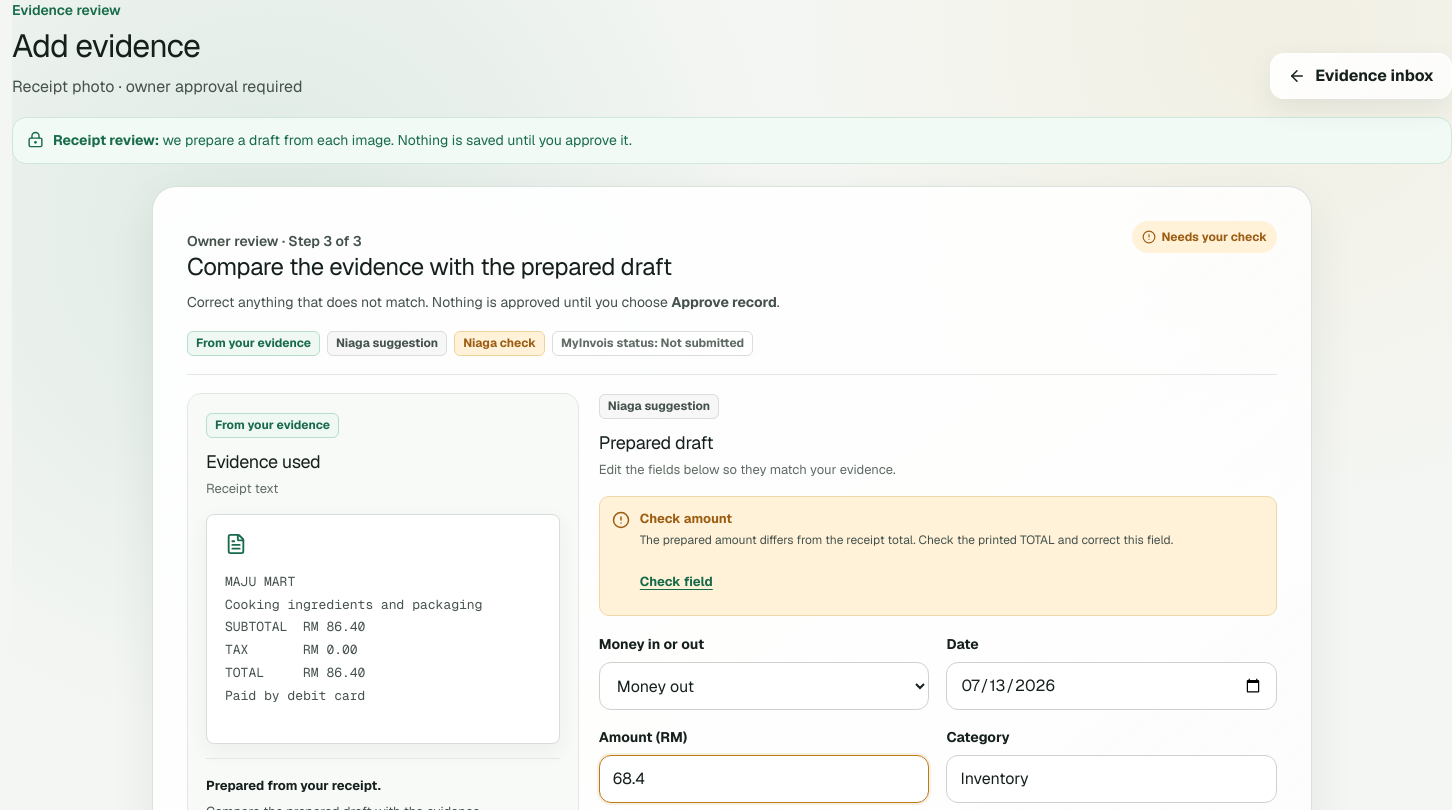
Test: TransactionCaptureFlow › runs the deterministic evidence correction through approval and audit history
The width and height of the screenshot is (1452, 810).
Replace the text in the number field labelled "Amount (RM)" with "86.40" at point(764, 779), box [599,755,929,803]
(page scrolled)
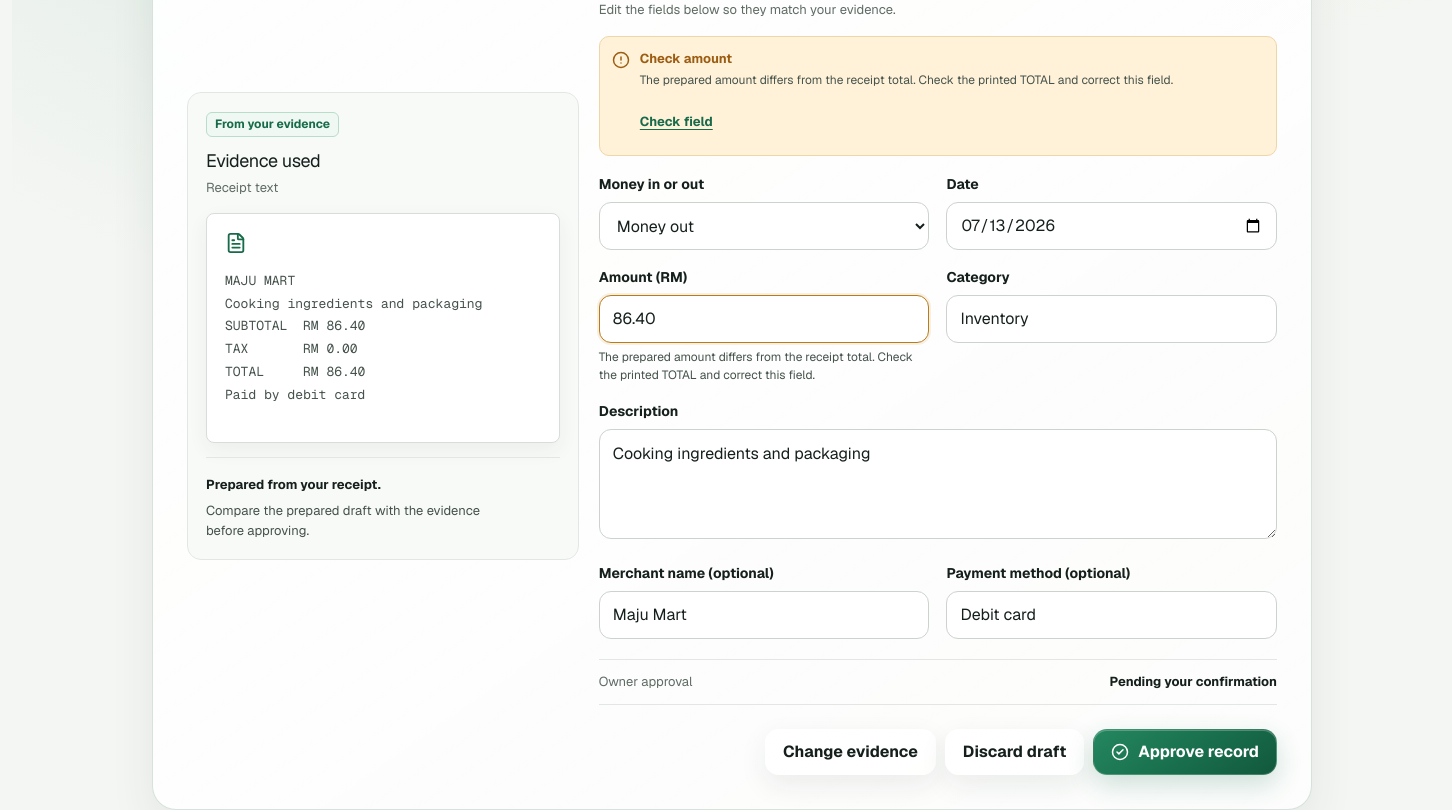
Expected: the button "Approve record" is enabled
Click the button "Approve record" at point(1185, 752), box [1093,729,1277,775]
(page scrolled)
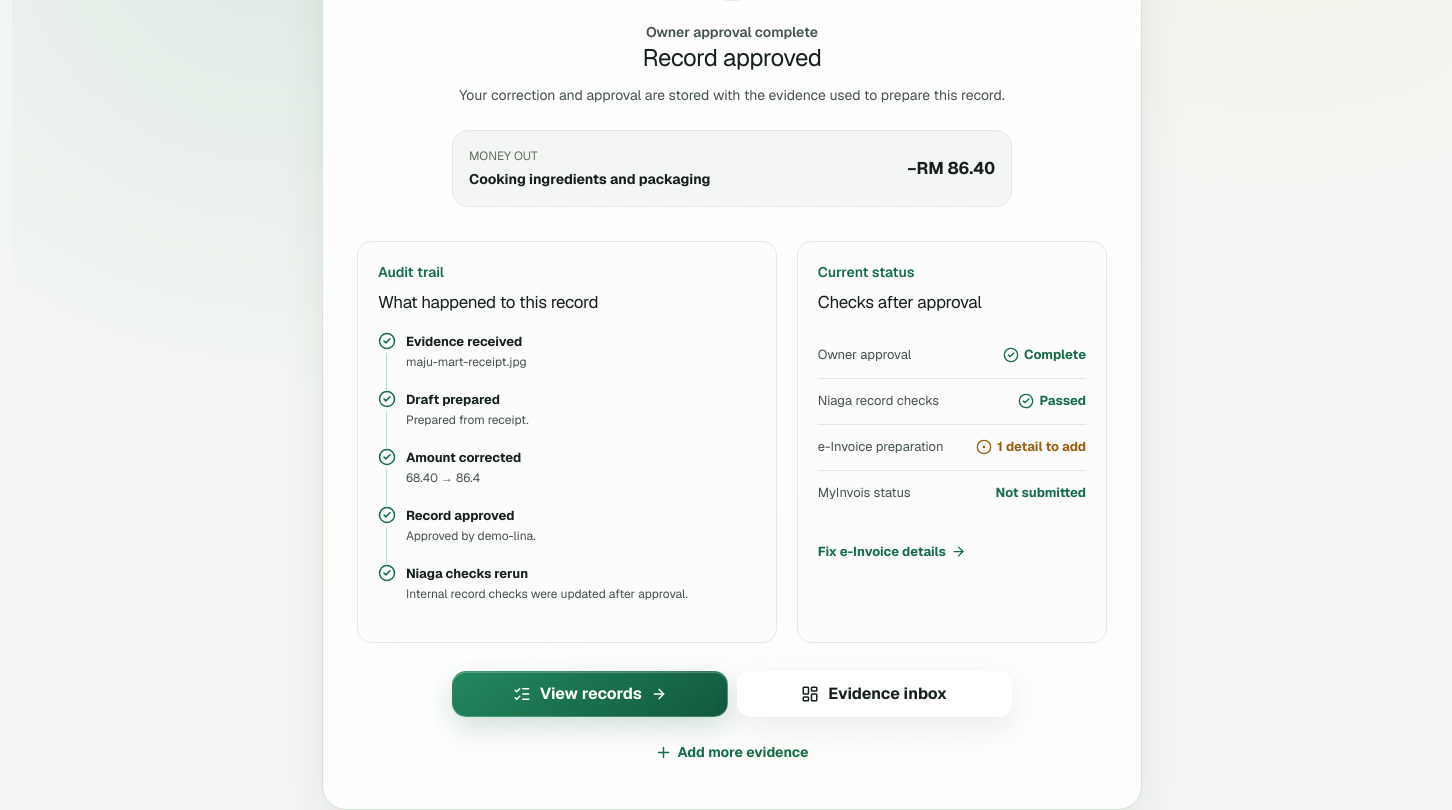
Expected: the heading "Record approved" is shown, [642,44,821,73]
Expected: the text "Amount corrected" is shown, [406,448,521,466]
Expected: the text "68.40 → 86.4" is shown, [406,470,480,486]
